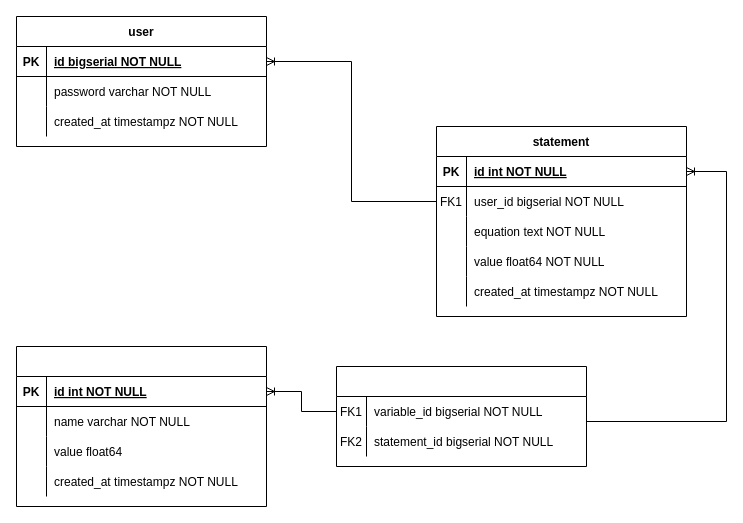
Image size: 743x523. Some labels were removed from this diagram. Here are the shapes that lost their labels. From the top down, the box of each, then its label:
(16, 346, 266, 506): variable
(336, 366, 586, 466): statementsVariables
